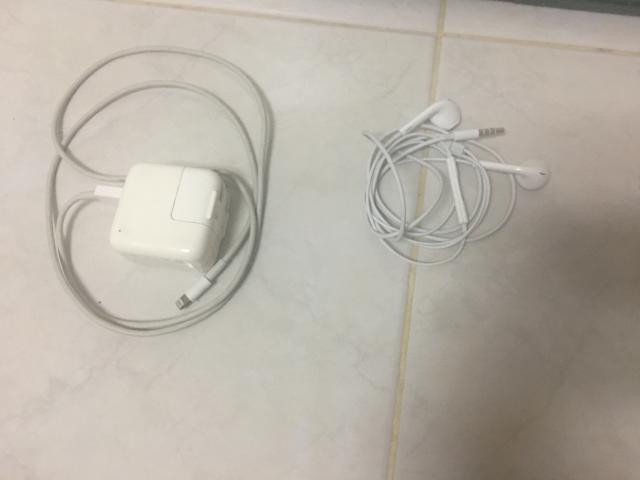wire: (46, 46, 272, 335), (364, 100, 550, 265)
